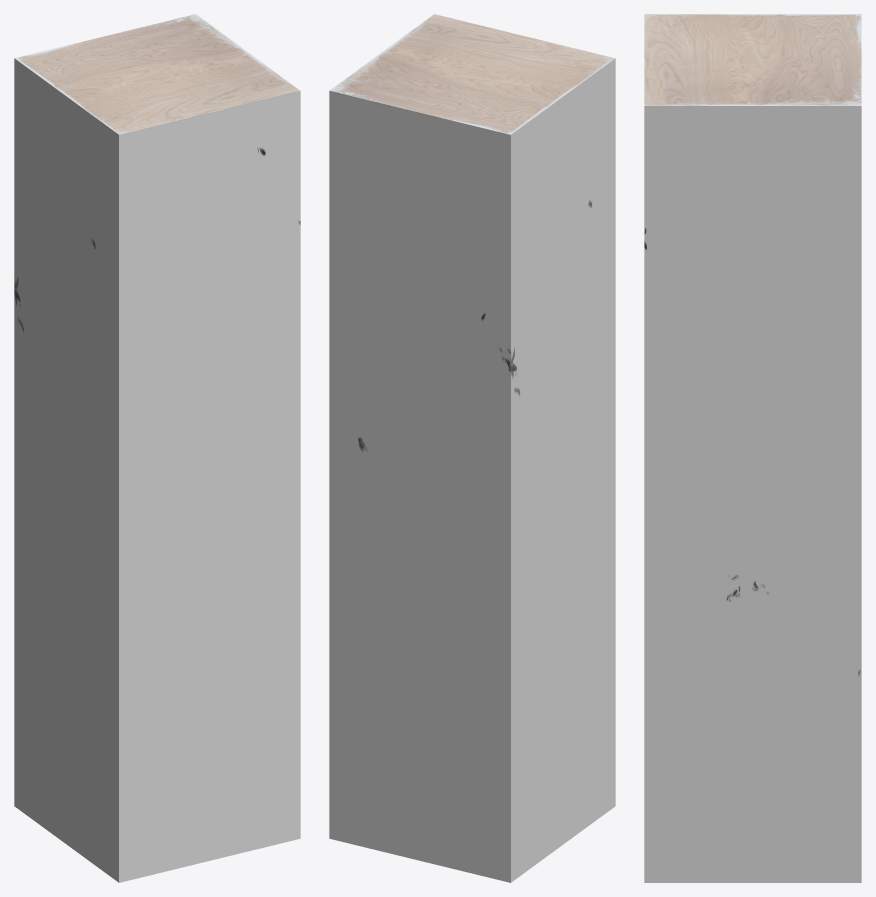
Rendered from warford.glb.
3 renders of one model, left to right at view 1: azimuth 30°, elevation 25°; view 2: azimuth 150°, elevation 25°; view 3: azimuth 270°, elevation 25°, orthographic. The views are drawn at different scales.
Visible parts, largest first — view 1: Cube; view 2: Cube; view 3: Cube.
Boxes of the visible parts, bbox=[...] form: Cube: bbox=[14, 14, 300, 882]; Cube: bbox=[329, 14, 615, 882]; Cube: bbox=[644, 14, 861, 882].
Bounding box in the file's own units: 1.4 × 5.5 × 1.4.
1 material, 1 textured.
